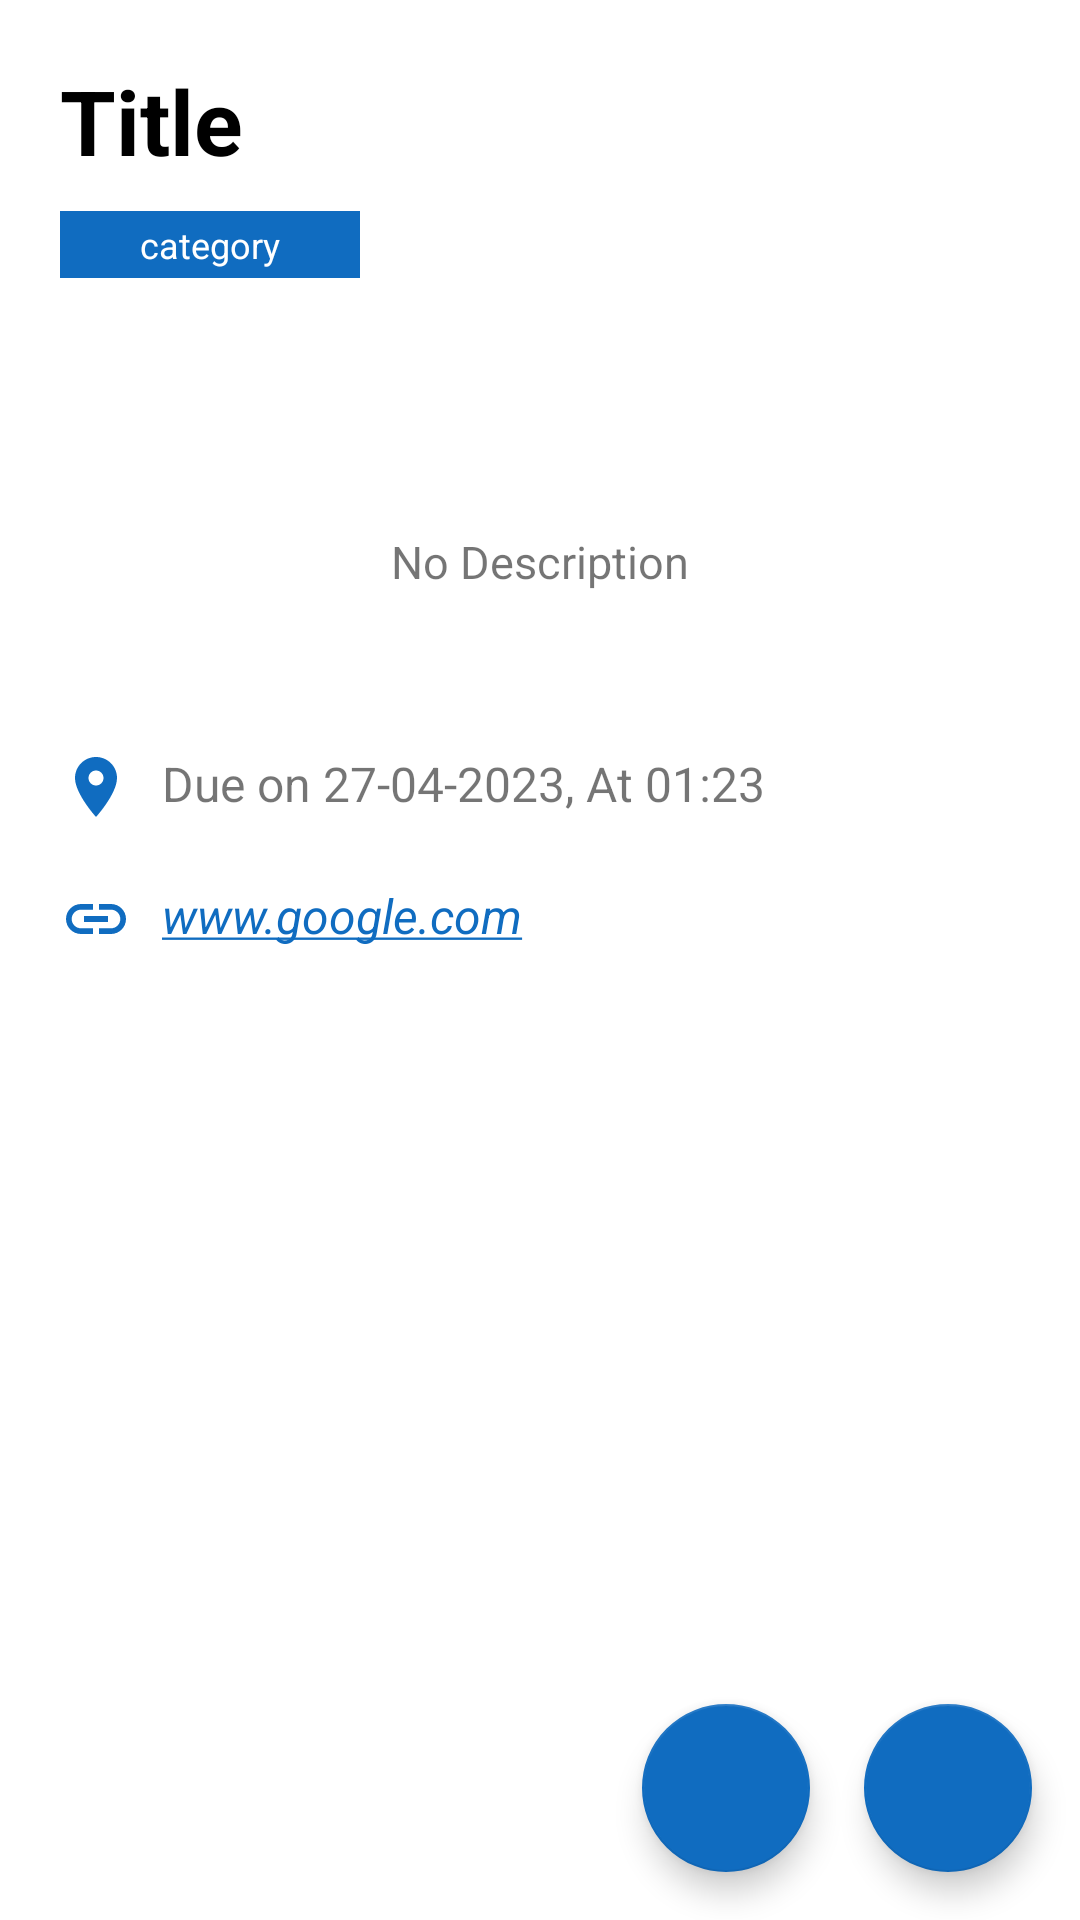

Where to tap for icons on this 1080x1920 app screen, as (x,y):
link: (96,919)
location on: (96,787)
